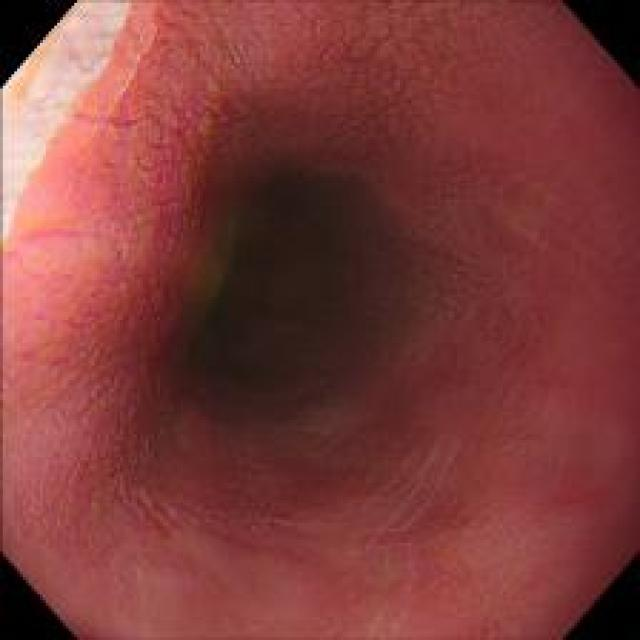color misalignment: (179, 179, 255, 369)
contrast: (176, 91, 504, 528)
saturation: (10, 44, 105, 221)
